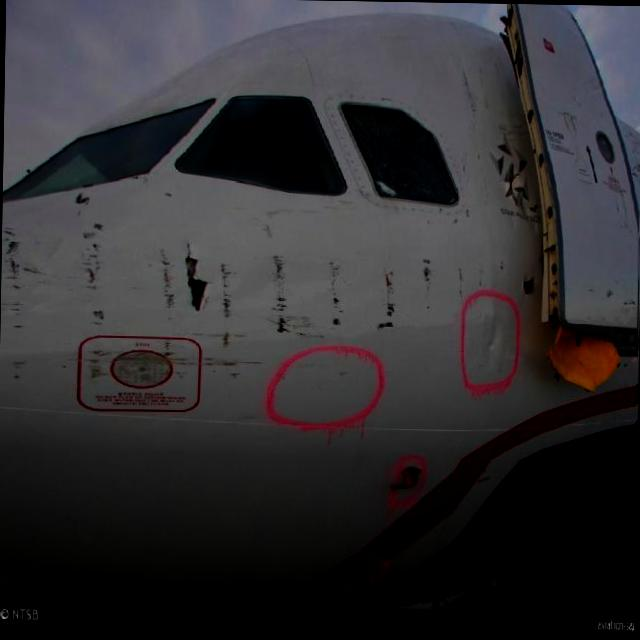crack: (175, 242, 217, 312), (514, 272, 541, 310)
dent: (482, 314, 501, 359)
